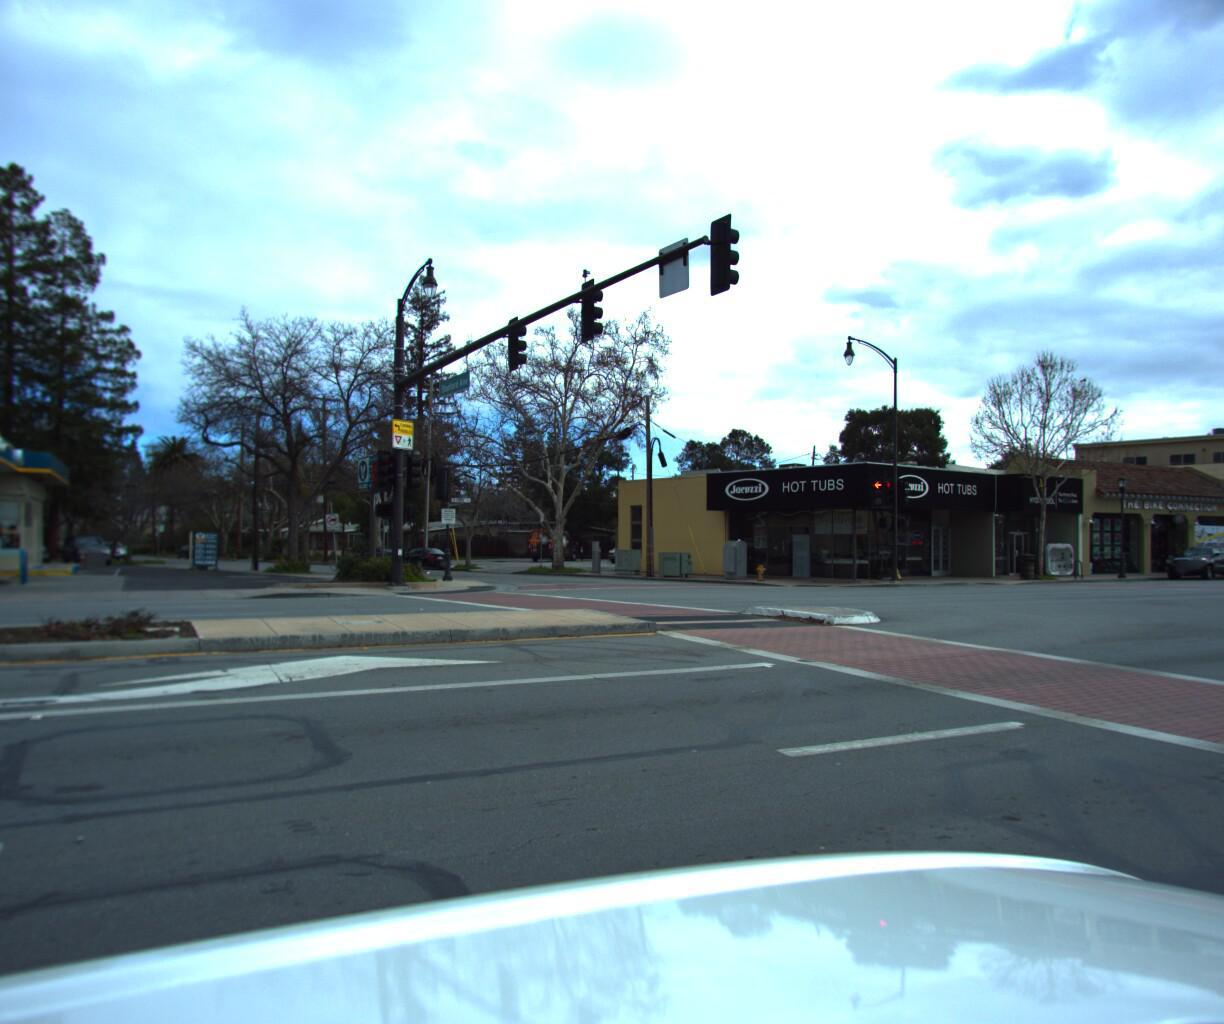car: (1152, 539, 1224, 576), (390, 541, 454, 567), (61, 540, 117, 567), (1215, 515, 1224, 574)
